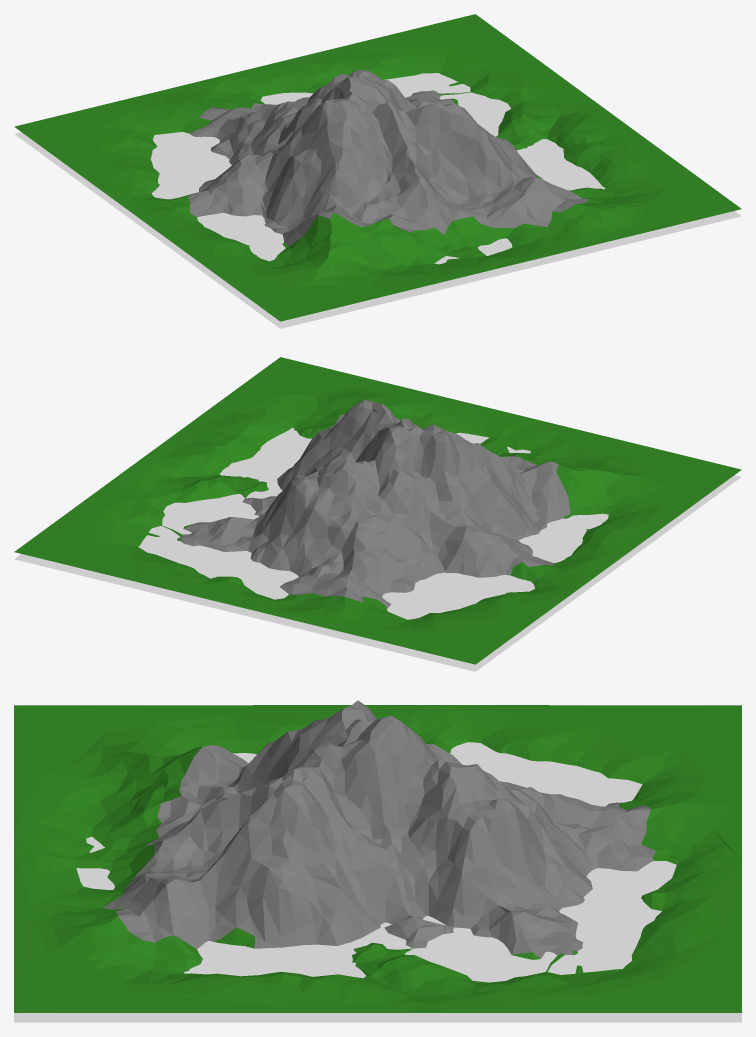
Rendered from MapTest.fbx.
3 views of the same model, one above another, from view 1: azimuth 30°, elevation 25°; view 2: azimuth 150°, elevation 25°; view 3: azimuth 270°, elevation 25° (orthographic). The views are drawn at different scales.
Visible parts, largest first — view 1: Landscape, Landscape_plane; view 2: Landscape, Landscape_plane; view 3: Landscape, Landscape_plane.
Boxes of the visible parts, x1,y1,x2,y2 form: Landscape: (14, 14, 741, 321); Landscape_plane: (14, 73, 741, 328); Landscape: (14, 357, 741, 664); Landscape_plane: (14, 428, 741, 671); Landscape: (14, 700, 741, 1012); Landscape_plane: (14, 742, 741, 1022).
Size of the model in its own units: 200 by 48.58 by 200.
